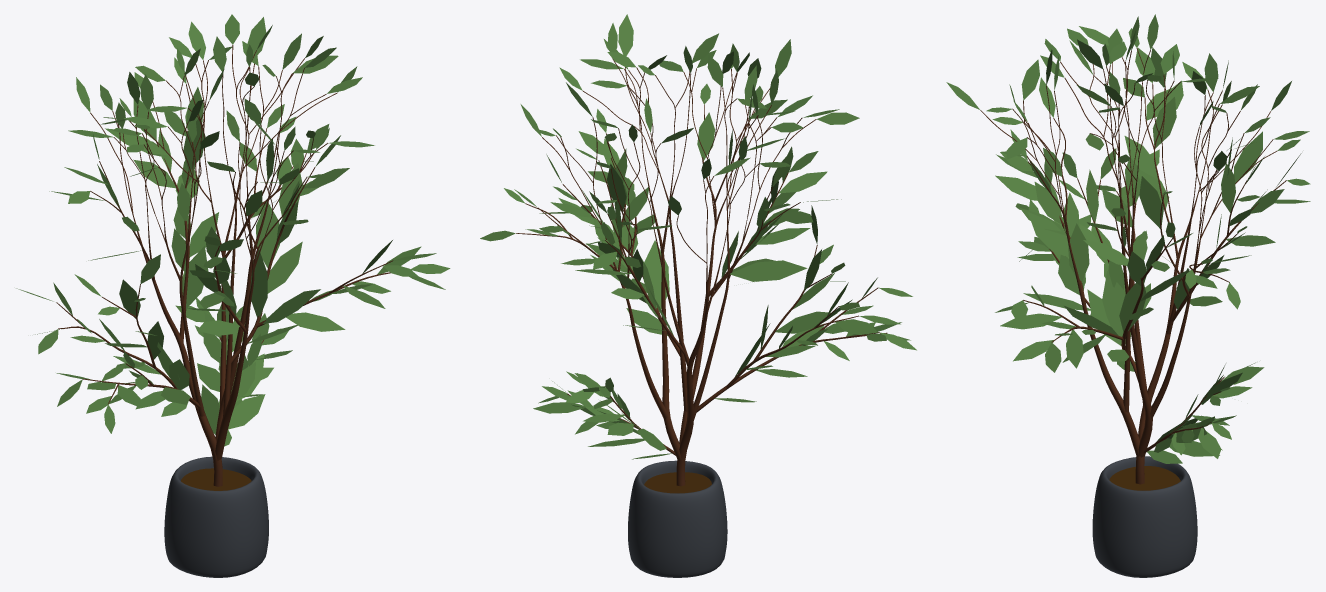
Rendered from Plant-2.fbx.
3 views of the same model, side by side, from view 1: azimuth 30°, elevation 25°; view 2: azimuth 150°, elevation 25°; view 3: azimuth 270°, elevation 25° (orthographic). The views are drawn at different scales.
Parts seen in each view (by area): view 1: leaves, tree, Plant, Mud; view 2: leaves, tree, Plant, Mud; view 3: leaves, tree, Plant, Mud.
Boxes of the visible parts, x1,y1,x2,y2 form: leaves: (16, 14, 450, 446); tree: (56, 45, 393, 486); Plant: (164, 456, 268, 577); Mud: (181, 468, 251, 490); leaves: (480, 14, 916, 459); tree: (516, 58, 887, 486); Plant: (628, 460, 727, 577); Mud: (644, 472, 711, 493); leaves: (946, 14, 1310, 463); tree: (980, 48, 1286, 484); Plant: (1092, 456, 1197, 577); Mud: (1109, 466, 1180, 490).
Bounding box in the file's own units: 155 × 200 × 125.
